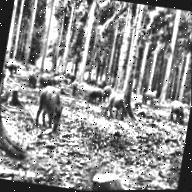boar: (28, 75, 80, 139), (104, 91, 134, 124), (165, 90, 191, 124), (143, 87, 161, 111), (88, 84, 102, 102), (102, 79, 112, 96)
